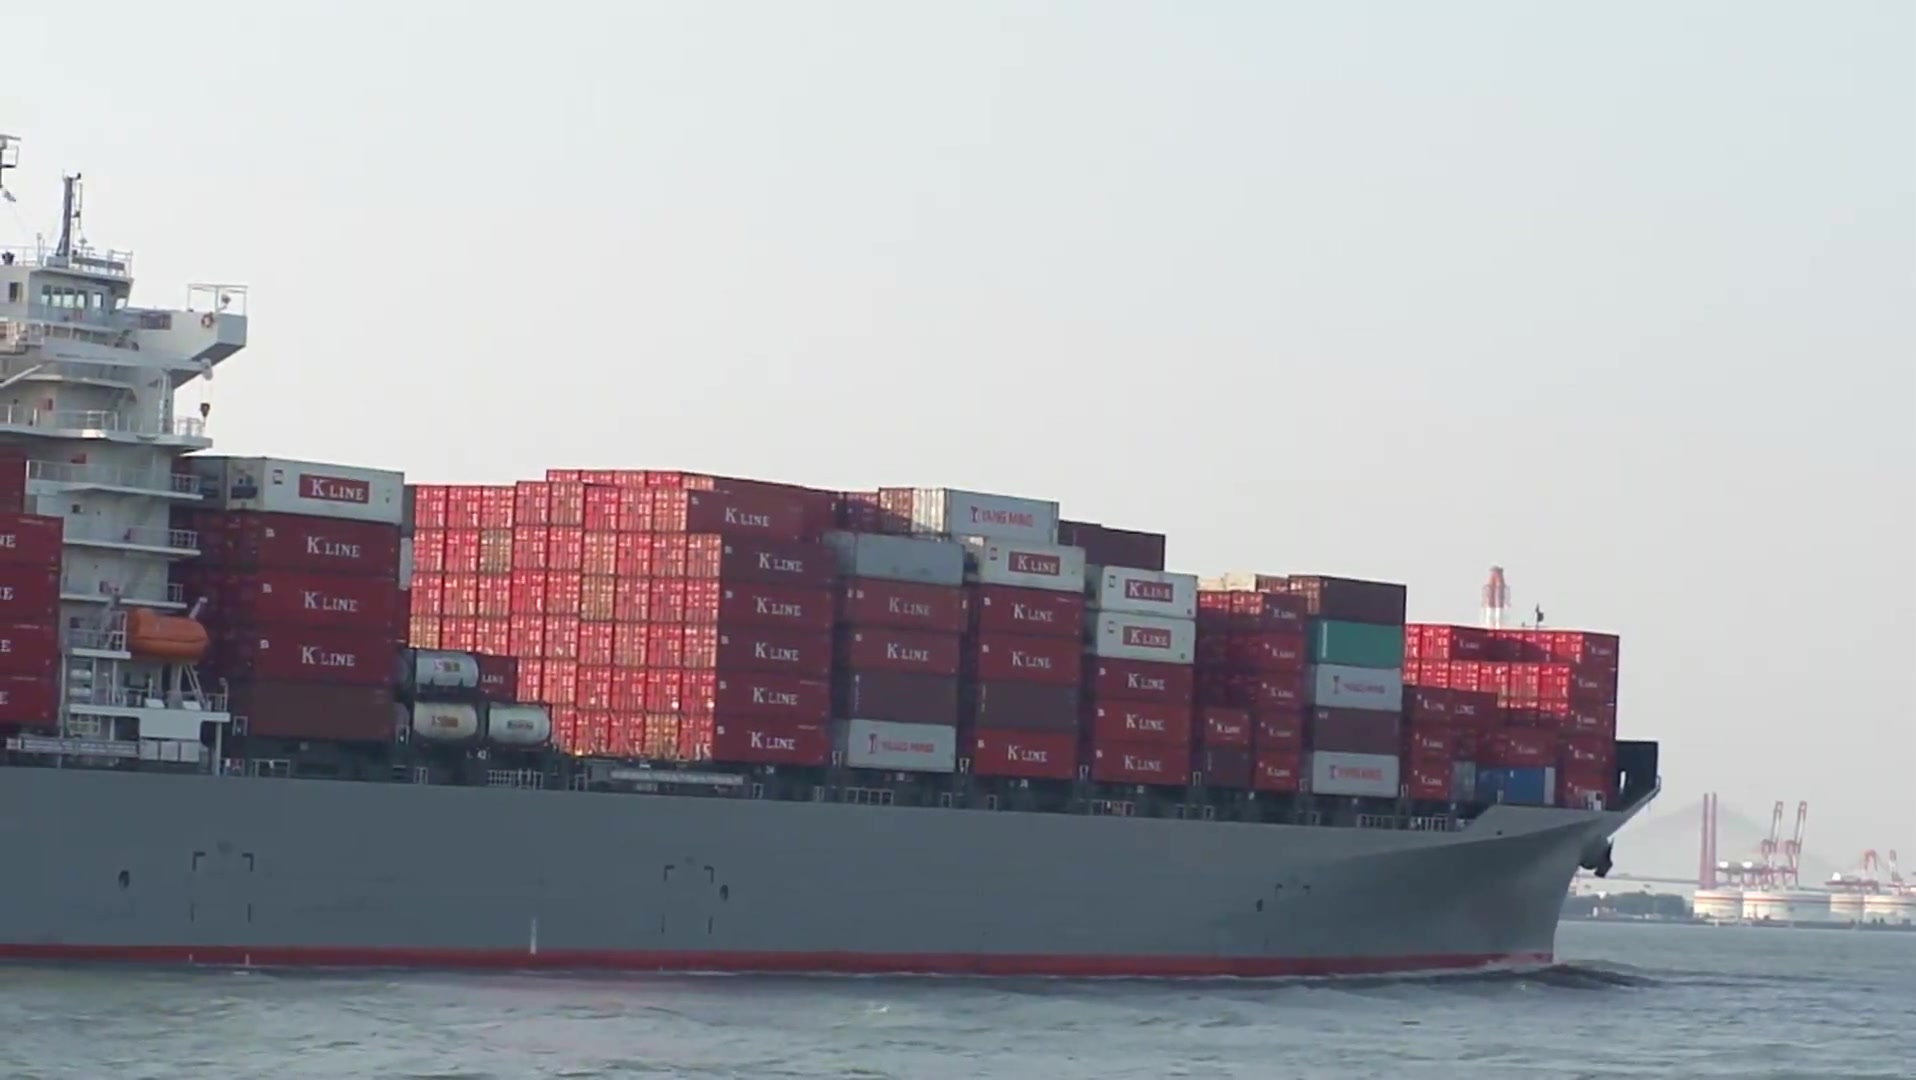boat: (3, 137, 1669, 988)
